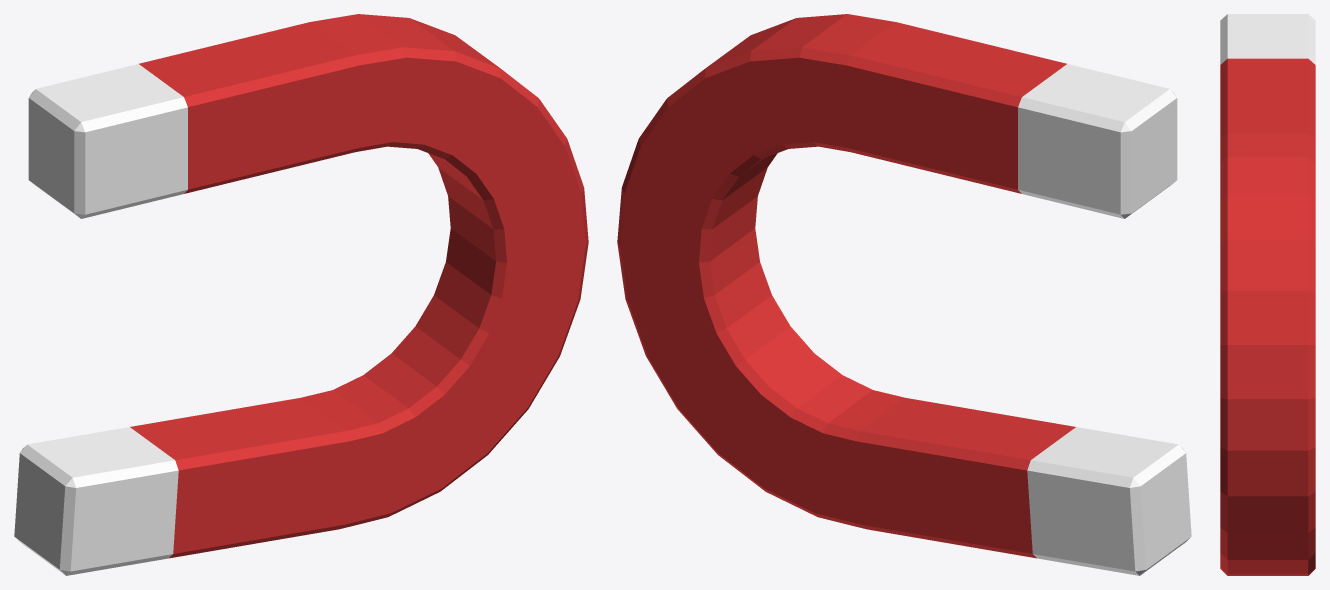
The model's file is magnet.gltf.
3 views of the same model, side by side, from view 1: azimuth 30°, elevation 25°; view 2: azimuth 150°, elevation 25°; view 3: azimuth 270°, elevation 25° (orthographic). The views are drawn at different scales.
Visible parts, largest first — view 1: node-0; view 2: node-0; view 3: node-0.
Part boxes in pixels (x1=…): node-0: x1=14, y1=14, x2=588, y2=575; node-0: x1=617, y1=14, x2=1191, y2=575; node-0: x1=1220, y1=14, x2=1315, y2=575.
Size of the model in its own units: 228 by 194 by 40.
